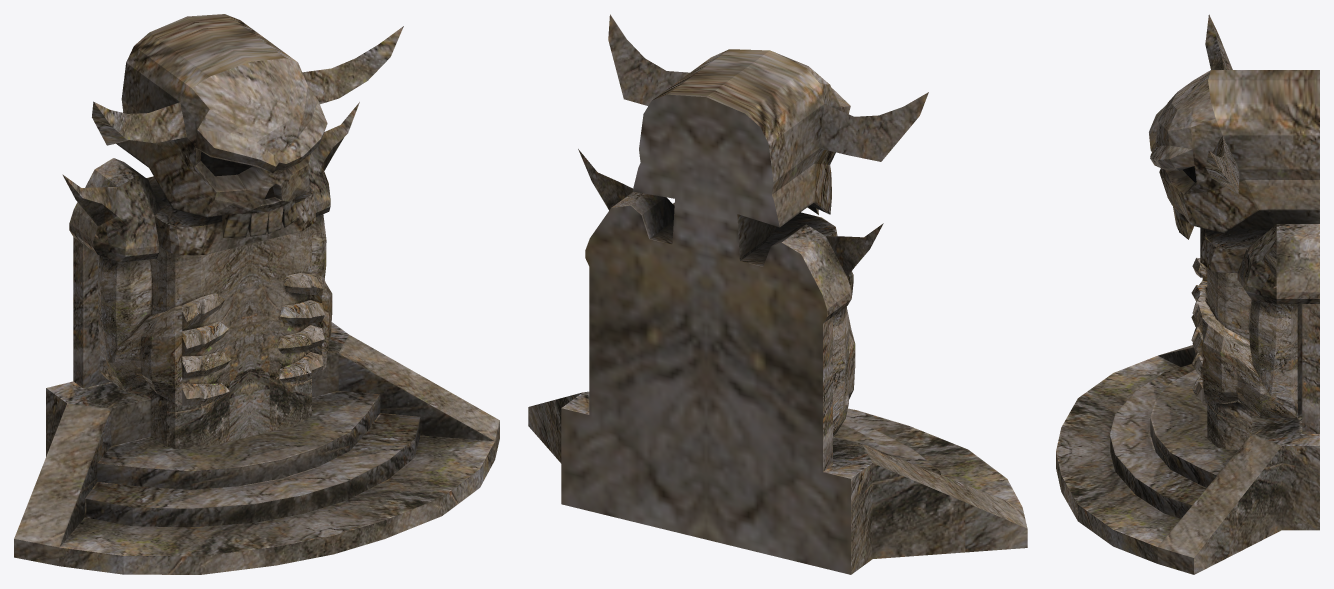
The model's file is M28_hellgate01.fbx.
3 views of the same model, side by side, from view 1: azimuth 30°, elevation 25°; view 2: azimuth 150°, elevation 25°; view 3: azimuth 270°, elevation 25° (orthographic). The views are drawn at different scales.
Visible parts, largest first — view 1: door_body, doorR1, doorL2; view 2: door_body, doorR1; view 3: door_body, doorL2, doorR1.
Part boxes in pixels (x1,y1,x2,y2): door_body: [14, 14, 499, 574]; doorR1: [98, 244, 249, 448]; doorL2: [249, 214, 332, 436]; door_body: [528, 14, 1027, 574]; doorR1: [833, 306, 855, 436]; door_body: [1056, 14, 1319, 574]; doorL2: [1191, 268, 1297, 449]; doorR1: [1191, 257, 1207, 353].
Size of the model in its own units: 45.99 by 38.95 by 24.03.
